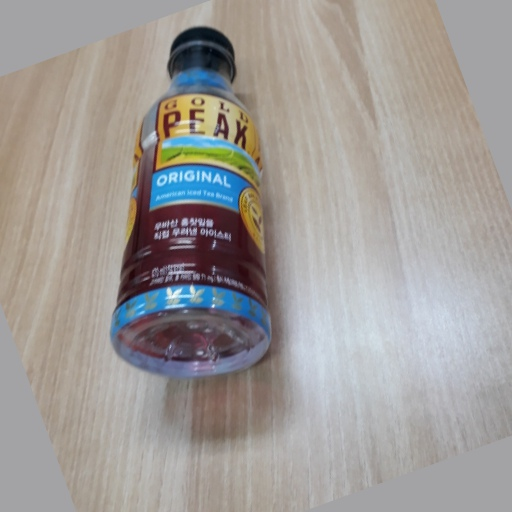Plastic_0: (113, 26, 275, 372)
